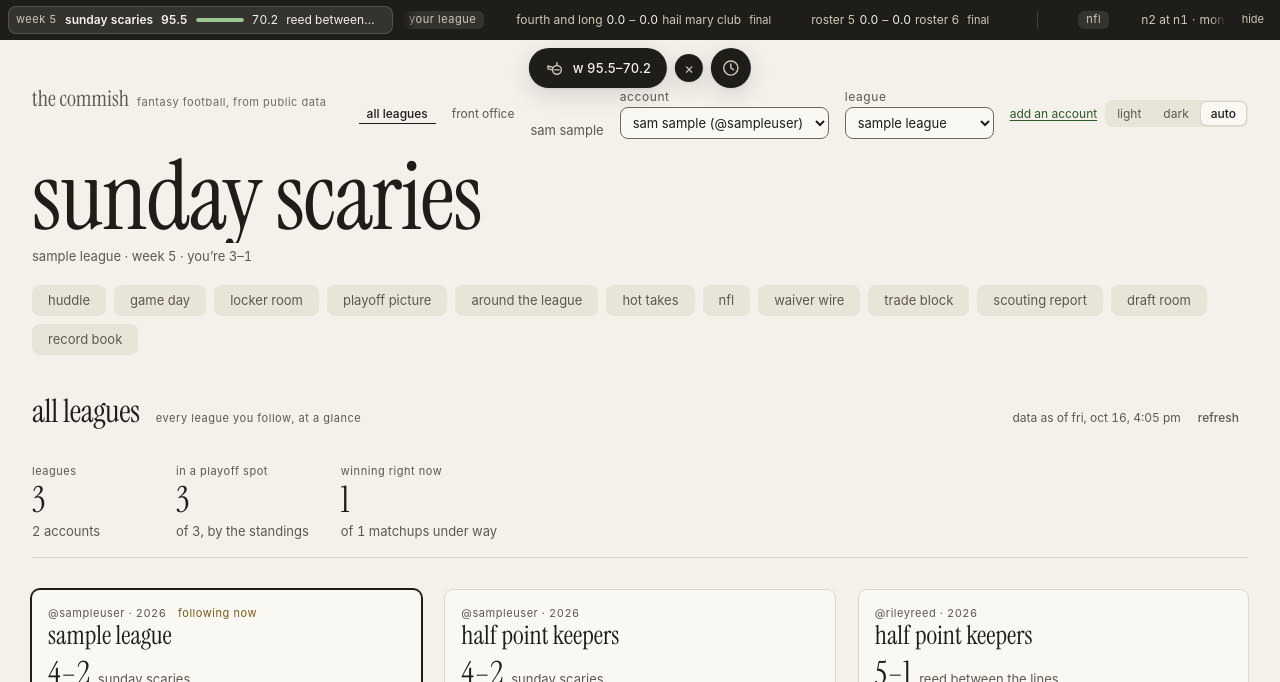
Scenario: all leagues › opens a league's huddle and makes it the one being followed, on the account that follows it
The width and height of the screenshot is (1280, 682).
Click the button with aria-label "open Half Point Keepers for Riley Reed" at (954, 635), box x1=875 y1=622 x2=1232 y2=649
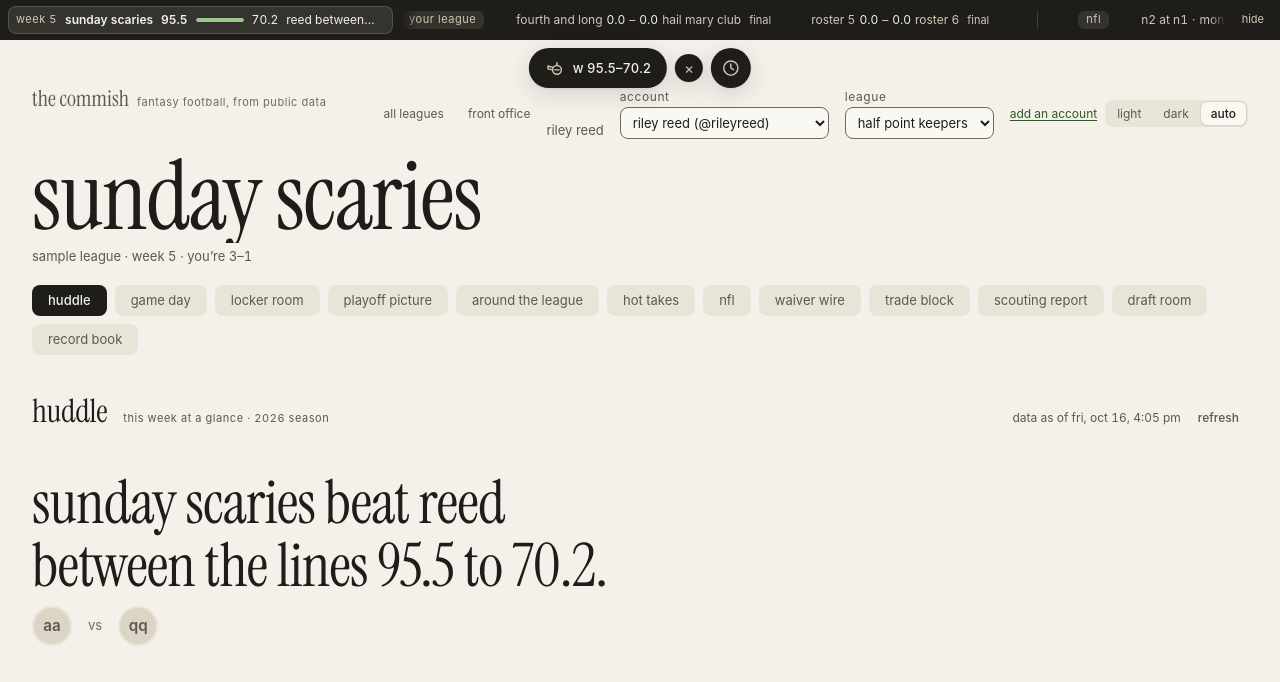
Result: the heading "huddle" is shown at x1=32 y1=395 x2=107 y2=427
